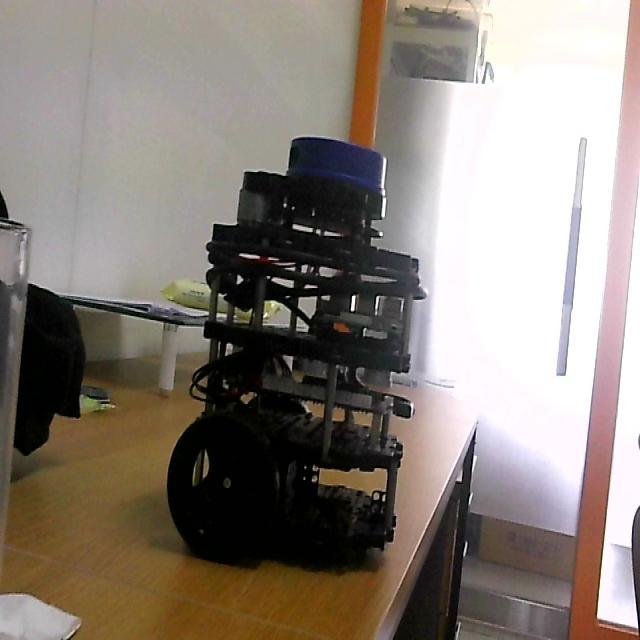turtle: (166, 134, 430, 579)
